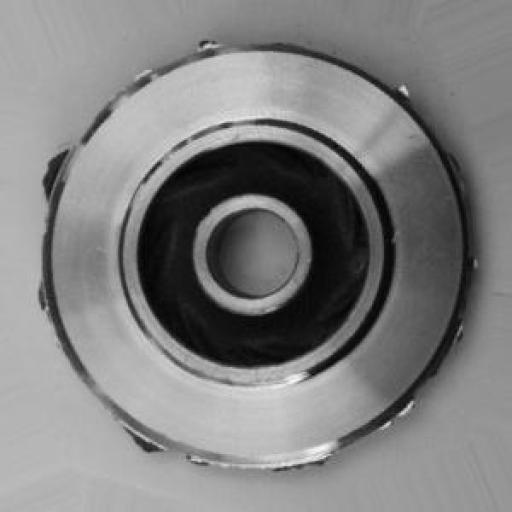defect: (20, 32, 480, 488)
